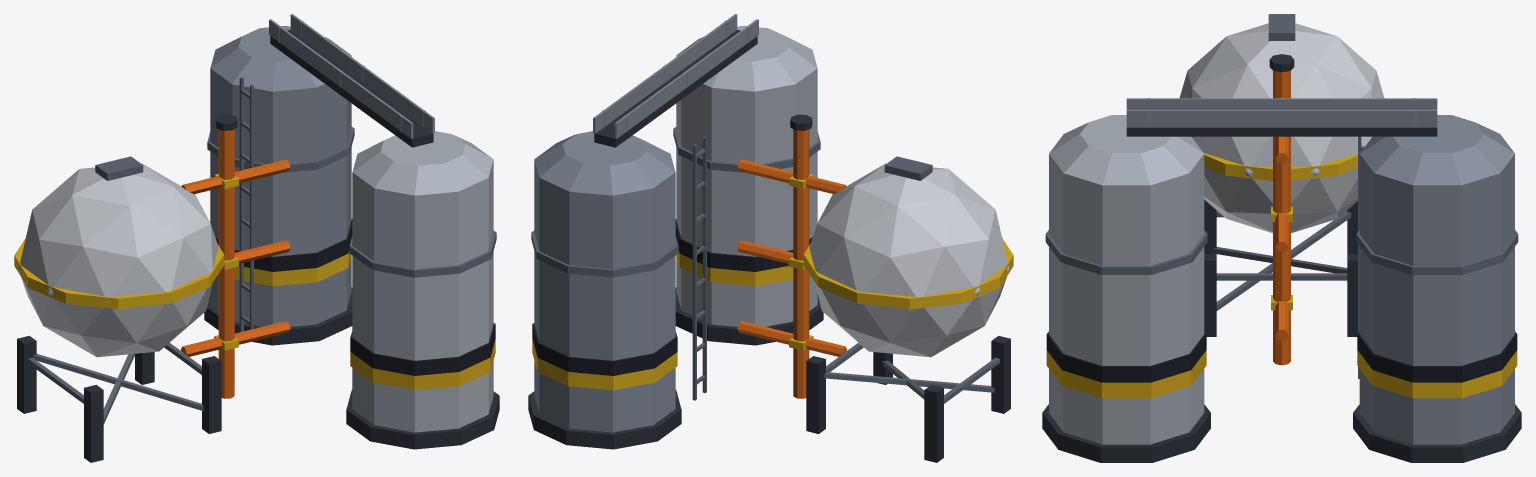
File: Decor_RobotFactory_Silos.fbx
3 renders of one model, left to right at view 1: azimuth 30°, elevation 25°; view 2: azimuth 150°, elevation 25°; view 3: azimuth 270°, elevation 25°, orthographic. The views are drawn at different scales.
Parts seen in each view (by area): view 1: Silos_Body; view 2: Silos_Body; view 3: Silos_Body.
Boxes of the visible parts, x1,y1,x2,y2 form: Silos_Body: (14,14,499,462); Silos_Body: (528,14,1013,462); Silos_Body: (1042,14,1521,462).
Bounding box in the file's own units: 21.5 × 15.65 × 21.
